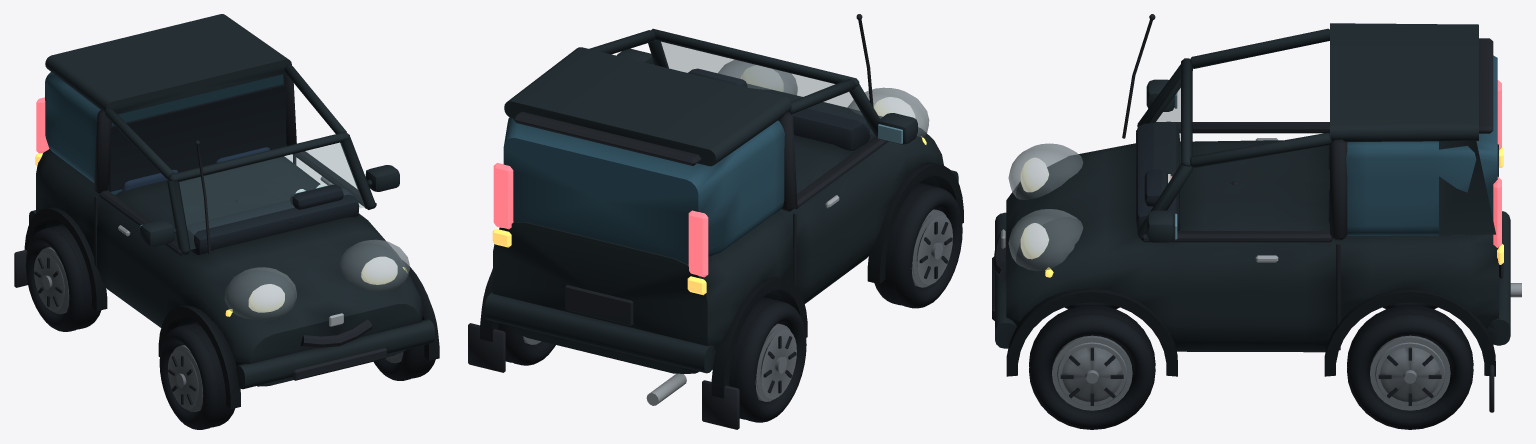
File: black-diamond.glb
3 renders of one model, left to right at view 1: azimuth 30°, elevation 25°; view 2: azimuth 150°, elevation 25°; view 3: azimuth 270°, elevation 25°, orthographic. The views are drawn at different scales.
Visible parts, largest first — view 1: black-diamond-hull, black-diamond-roof, black-diamond-bulkhead, black-diamond-windscreen, black-diamond-cover, black-diamond-greenhouse-glass, black-diamond-windscreen-frame, black-diamond-wheel-lips, black-diamond-dashboard, black-diamond-bumpers, black-diamond-tire-rear-right.005, black-diamond-tire-front-right.005 (+12 smaller); view 2: black-diamond-hull, black-diamond-greenhouse-glass, black-diamond-roof, black-diamond-bumpers, black-diamond-wheel-lips, black-diamond-tire-front-right.005, black-diamond-tire-rear-right.005, black-diamond-windscreen-frame, black-diamond-windscreen, black-diamond-dark, black-diamond-detail-levers, black-diamond-cover (+11 smaller); view 3: black-diamond-hull, black-diamond-roof, black-diamond-greenhouse-glass, black-diamond-tire-front-left.005, black-diamond-tire-rear-left.005, black-diamond-wheel-lips, black-diamond-windscreen-frame, black-diamond-cover, black-diamond-rim-front-left.005, black-diamond-rim-rear-left.005, black-diamond-door-top-trim, black-diamond-pillars (+10 smaller).
Boxes of the visible parts, bbox=[...] form: black-diamond-hull: bbox=[36, 148, 423, 386]; black-diamond-roof: bbox=[45, 14, 291, 114]; black-diamond-bulkhead: bbox=[109, 84, 286, 191]; black-diamond-windscreen: bbox=[179, 143, 364, 249]; black-diamond-cover: bbox=[224, 239, 409, 320]; black-diamond-greenhouse-glass: bbox=[45, 72, 286, 194]; black-diamond-windscreen-frame: bbox=[105, 65, 375, 254]; black-diamond-wheel-lips: bbox=[24, 207, 439, 409]; black-diamond-dashboard: bbox=[186, 188, 359, 254]; black-diamond-bumpers: bbox=[29, 210, 434, 389]; black-diamond-tire-rear-right.005: bbox=[25, 224, 101, 331]; black-diamond-tire-front-right.005: bbox=[159, 322, 234, 429]; black-diamond-hull: bbox=[493, 84, 943, 373]; black-diamond-greenhouse-glass: bbox=[503, 117, 784, 263]; black-diamond-roof: bbox=[504, 47, 791, 166]; black-diamond-bumpers: bbox=[485, 170, 958, 373]; black-diamond-wheel-lips: bbox=[480, 162, 963, 398]; black-diamond-tire-front-right.005: bbox=[874, 183, 962, 308]; black-diamond-tire-rear-right.005: bbox=[729, 297, 806, 422]; black-diamond-windscreen-frame: bbox=[589, 28, 879, 136]; black-diamond-windscreen: bbox=[660, 41, 874, 134]; black-diamond-dark: bbox=[513, 111, 796, 325]; black-diamond-detail-levers: bbox=[468, 14, 873, 429]; black-diamond-cover: bbox=[718, 60, 929, 137]; black-diamond-hull: bbox=[1006, 140, 1498, 352]; black-diamond-roof: bbox=[1330, 23, 1478, 141]; black-diamond-greenhouse-glass: bbox=[1346, 55, 1497, 235]; black-diamond-tire-front-left.005: bbox=[1029, 305, 1155, 429]; black-diamond-tire-rear-left.005: bbox=[1347, 305, 1473, 429]; black-diamond-wheel-lips: bbox=[1006, 288, 1495, 376]; black-diamond-windscreen-frame: bbox=[1137, 28, 1332, 238]; black-diamond-cover: bbox=[1008, 143, 1083, 271]; black-diamond-rim-front-left.005: bbox=[1052, 335, 1132, 410]; black-diamond-rim-rear-left.005: bbox=[1370, 335, 1450, 410]; black-diamond-door-top-trim: bbox=[1141, 122, 1332, 242]; black-diamond-pillars: bbox=[1439, 140, 1495, 235].
Bounding box in the file's own units: 2.42 × 2.37 × 3.7.
